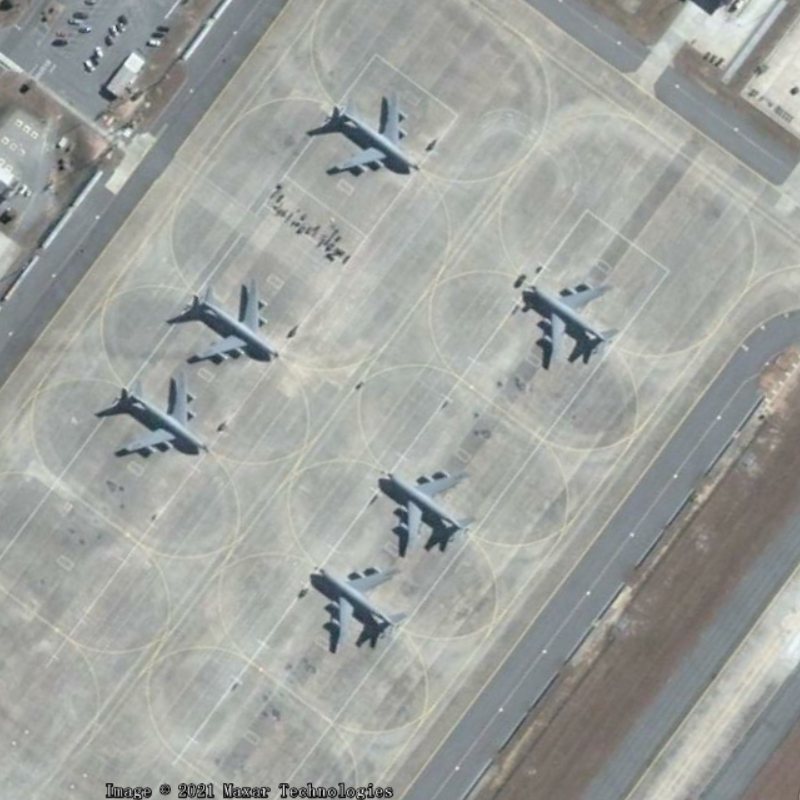A14: (105, 366, 211, 468), (519, 275, 625, 373), (317, 84, 426, 179), (376, 465, 482, 562), (310, 564, 415, 658), (184, 274, 286, 370)
